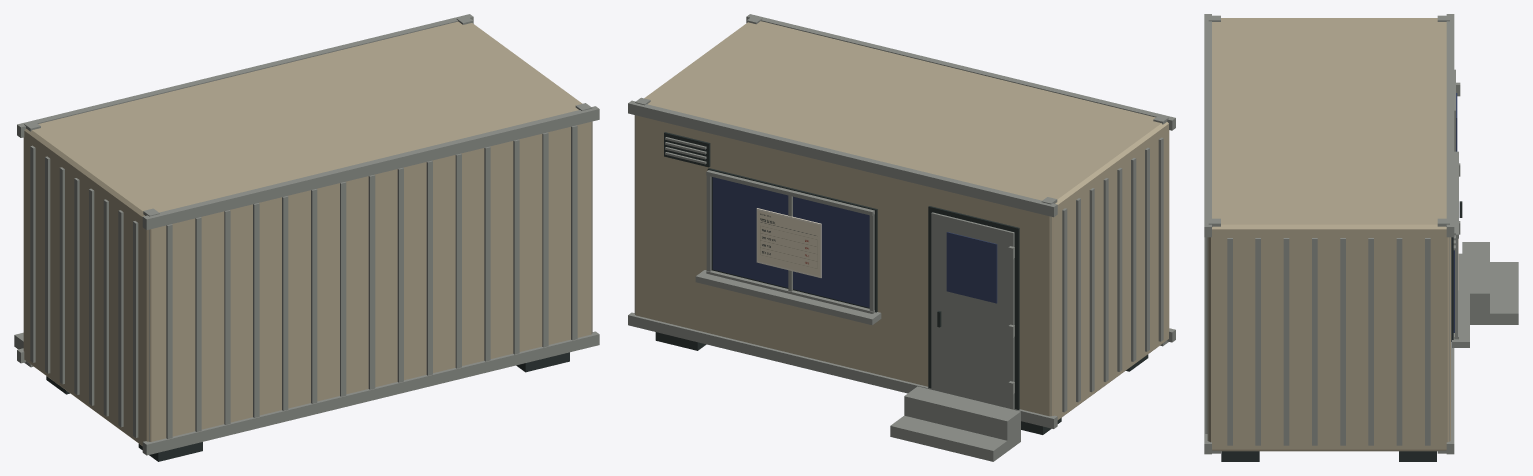
Rendered from D09_Temporary_Demolition_Office.fbx.
3 views of the same model, side by side, from view 1: azimuth 30°, elevation 25°; view 2: azimuth 150°, elevation 25°; view 3: azimuth 270°, elevation 25° (orthographic). The views are drawn at different scales.
Parts seen in each view (by area): view 1: Office_Shell, Office_Foundation; view 2: Office_Shell, Office_Window, Office_Door, Steps, Front_Window_Schedule, Office_Vent, Office_Foundation; view 3: Office_Shell, Steps, Office_Window, Office_Foundation, Office_Door.
Part boxes in pixels (x1=…): Office_Shell: x1=17, y1=14, x2=599, y2=455; Office_Foundation: x1=46, y1=352, x2=569, y2=461; Office_Shell: x1=628, y1=14, x2=1175, y2=428; Office_Window: x1=695, y1=168, x2=881, y2=325; Office_Door: x1=928, y1=206, x2=1019, y2=409; Steps: x1=890, y1=386, x2=1020, y2=461; Front_Window_Schedule: x1=756, y1=208, x2=821, y2=277; Office_Vent: x1=664, y1=132, x2=710, y2=167; Office_Foundation: x1=655, y1=332, x2=1148, y2=434; Office_Shell: x1=1204, y1=14, x2=1454, y2=454; Steps: x1=1462, y1=242, x2=1518, y2=324; Office_Window: x1=1451, y1=151, x2=1469, y2=347; Office_Foundation: x1=1221, y1=451, x2=1436, y2=461; Office_Door: x1=1454, y1=69, x2=1462, y2=234.
Size of the model in its own units: 5.28 by 2.84 by 3.3.
6 materials, 1 textured.
